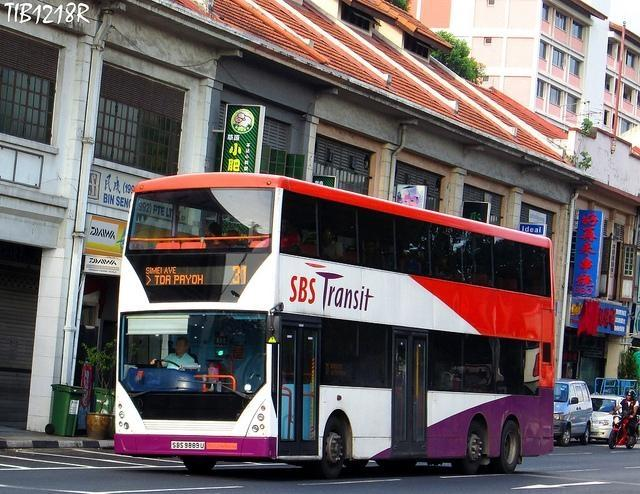bus: (115, 172, 553, 478)
car: (554, 378, 594, 444), (590, 396, 623, 439)
motorcycle: (608, 410, 640, 449)
truck: (554, 381, 592, 446)
